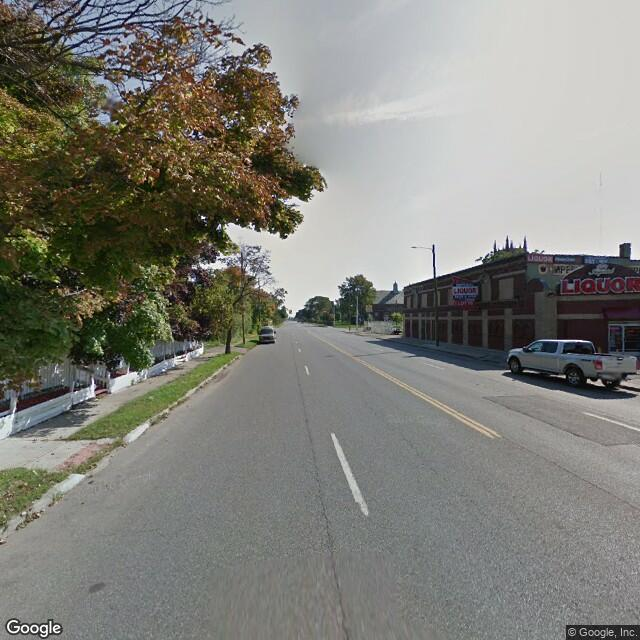litter: (32, 468, 40, 476), (147, 394, 155, 401)
